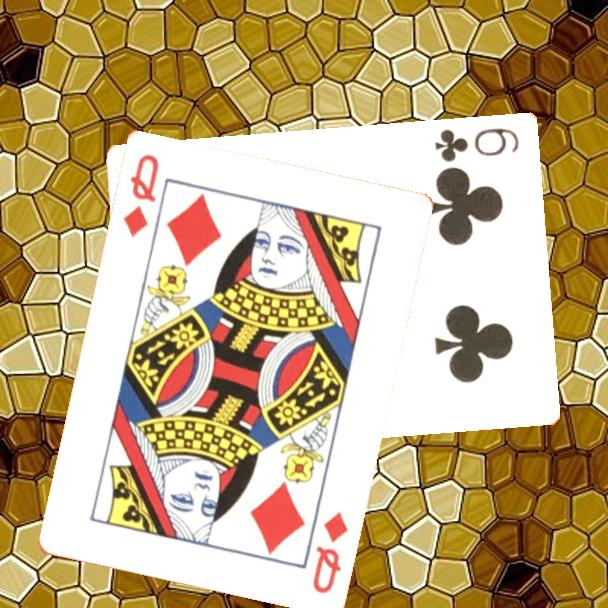c06: (432, 124, 523, 164)
d12: (120, 151, 163, 241), (309, 508, 352, 597)
